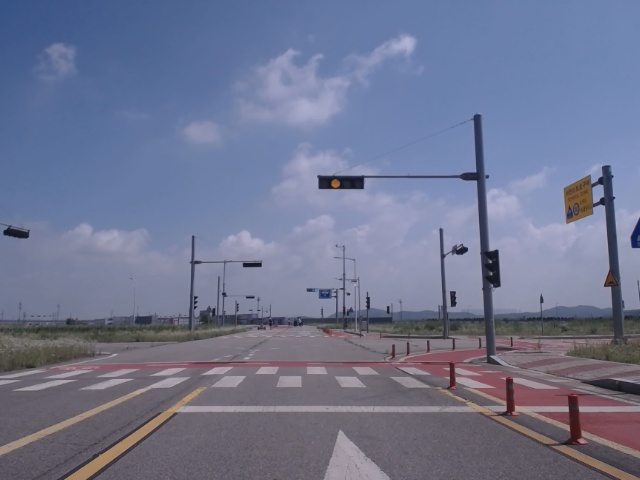orange_4: (318, 175, 364, 189)
